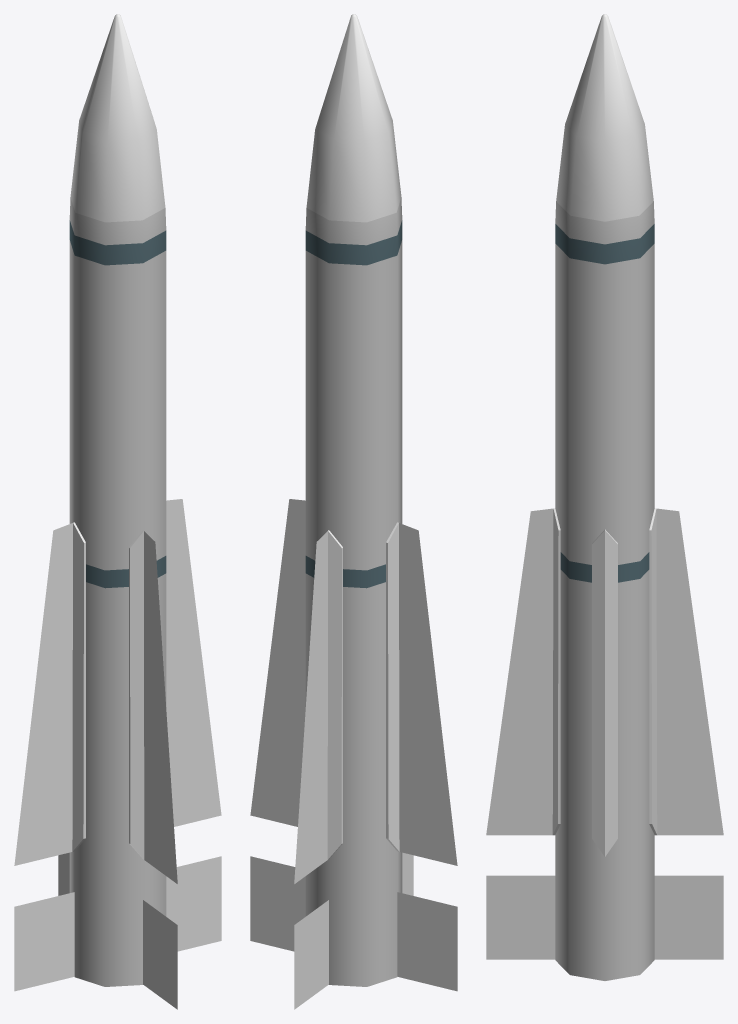
The model's file is aim-54-phoenix.glb.
The picture shows the model from 3 angles, left to right: view 1: azimuth 30°, elevation 25°; view 2: azimuth 150°, elevation 25°; view 3: azimuth 270°, elevation 25°; orthographic projection.
Visible parts, largest first — view 1: AIM-54 Phoenix; view 2: AIM-54 Phoenix; view 3: AIM-54 Phoenix.
Boxes of the visible parts, x1,y1,x2,y2 form: AIM-54 Phoenix: (14,14,221,1009); AIM-54 Phoenix: (250,14,457,1009); AIM-54 Phoenix: (486,14,723,980).
Size of the model in its own units: 0.5456 by 2.4 by 0.5456.
